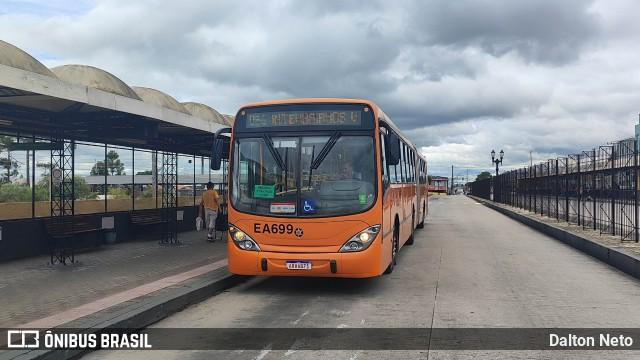INTERBAIRROS V: (268, 108, 363, 128)
